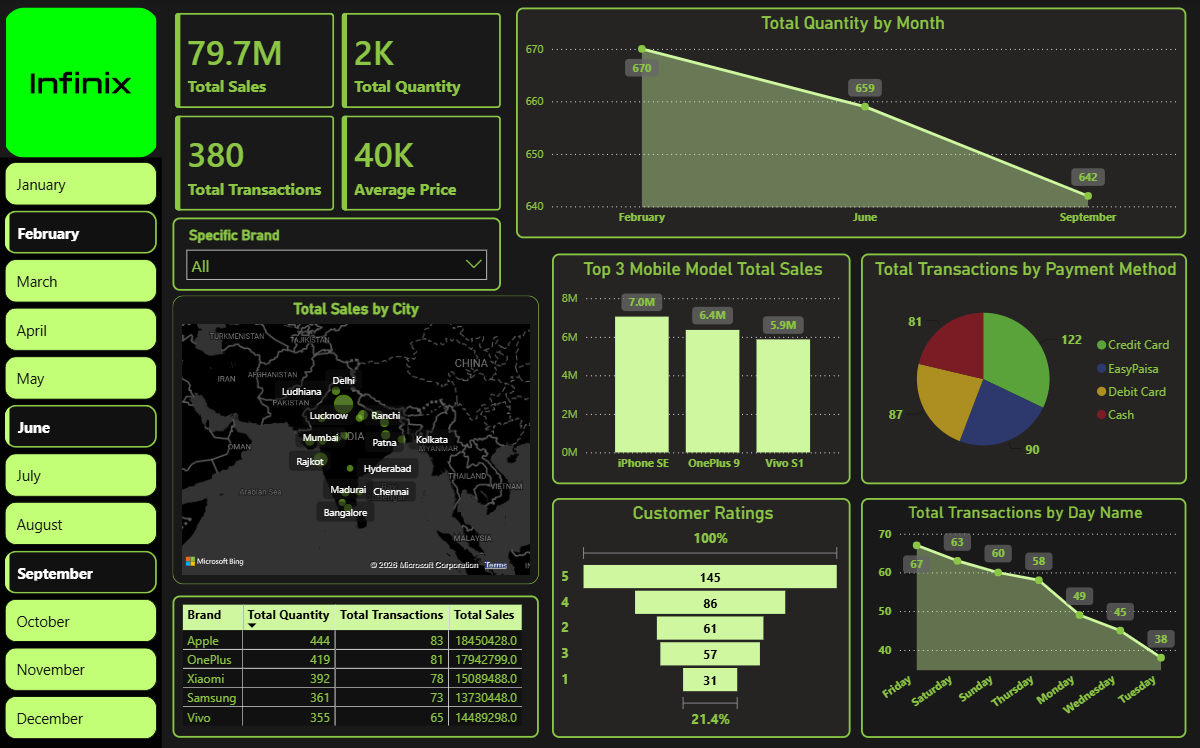

Layout of this report page (visuals, bound fields, positions):
{"tool":"powerbi","page":{"name":"Dashboard","canvas":[1310,820],"ordinal":0},"visuals":[{"type":"image","box":[3.3,11.5,170.3,163.8],"z":0},{"type":"advancedSlicerVisual","fields":{"Values":["Mobile-Sales-Data.Date.Variation.Date Hierarchy.Month"]},"box":[0,175.2,176.9,645.3],"z":1000},{"type":"cardVisual","fields":{"Data":["Mobile-Sales-Data.Total Sales","Mobile-Sales-Data.Total Quantity","Mobile-Sales-Data.Total Transactions","Mobile-Sales-Data.Average Price"]},"box":[173.3,0,390,251.7],"z":2000},{"type":"map","fields":{"Category":["Mobile-Sales-Data.City"],"Size":["Mobile-Sales-Data.Total Sales"]},"box":[188.3,326.7,400,315],"z":3000},{"type":"lineChart","fields":{"Category":["Mobile-Sales-Data.Date.Variation.Date Hierarchy.Month","Mobile-Sales-Data.Date.Variation.Date Hierarchy.Day"],"Y":["Mobile-Sales-Data.Total Quantity"]},"box":[563.4,11.5,732.1,252.2],"z":4000},{"type":"clusteredColumnChart","title":"Top 3 Mobile Model Total Sales","fields":{"Category":["Mobile-Sales-Data.Mobile Model"],"Y":["Mobile-Sales-Data.Total Sales"]},"box":[602.7,280.1,325.9,252.2],"z":5000},{"type":"pieChart","fields":{"Category":["Mobile-Sales-Data.Payment Method"],"Y":["Mobile-Sales-Data.Total Transactions"]},"box":[939.6,280.1,356,252.2],"z":6000},{"type":"funnel","title":"Customer Ratings","fields":{"Category":["Mobile-Sales-Data.Customer Ratings"],"Y":["CountNonNull(Mobile-Sales-Data.Customer Ratings)"]},"box":[602.7,547,325.9,262.1],"z":7000},{"type":"areaChart","fields":{"Category":["Mobile-Sales-Data.Day Name"],"Y":["Mobile-Sales-Data.Total Transactions"]},"box":[940.1,547,355.4,262.1],"z":8000},{"type":"tableEx","fields":{"Values":["Mobile-Sales-Data.Brand","Mobile-Sales-Data.Total Quantity","Mobile-Sales-Data.Total Transactions","Mobile-Sales-Data.Total Sales"]},"box":[188.3,653.3,400,155],"z":9000},{"type":"slicer","fields":{"Values":["Mobile-Sales-Data.Brand"]},"box":[188.3,240,358.3,80],"z":9001}]}

Visuals, with their boxes in screenshot pixels (x1, y1, x2, y2), scaled from the page's 1310x820 canvas onto the 1200x748 screenshot:
image: 3/10/159/160
advancedSlicerVisual - Mobile-Sales-Data.Date.Variation.Date Hierarchy.Month: 0/160/162/747
cardVisual - Mobile-Sales-Data.Total Sales x Mobile-Sales-Data.Total Quantity: 159/0/516/230
map - Mobile-Sales-Data.City x Mobile-Sales-Data.Total Sales: 172/298/539/585
lineChart - Mobile-Sales-Data.Date.Variation.Date Hierarchy.Month x Mobile-Sales-Data.Date.Variation.Date Hierarchy.Day: 516/10/1187/241
"Top 3 Mobile Model Total Sales" clusteredColumnChart: 552/256/851/486
pieChart - Mobile-Sales-Data.Payment Method x Mobile-Sales-Data.Total Transactions: 861/256/1187/486
"Customer Ratings" funnel: 552/499/851/738
areaChart - Mobile-Sales-Data.Day Name x Mobile-Sales-Data.Total Transactions: 861/499/1187/738
tableEx - Mobile-Sales-Data.Brand x Mobile-Sales-Data.Total Quantity: 172/596/539/737
slicer - Mobile-Sales-Data.Brand: 172/219/501/292
